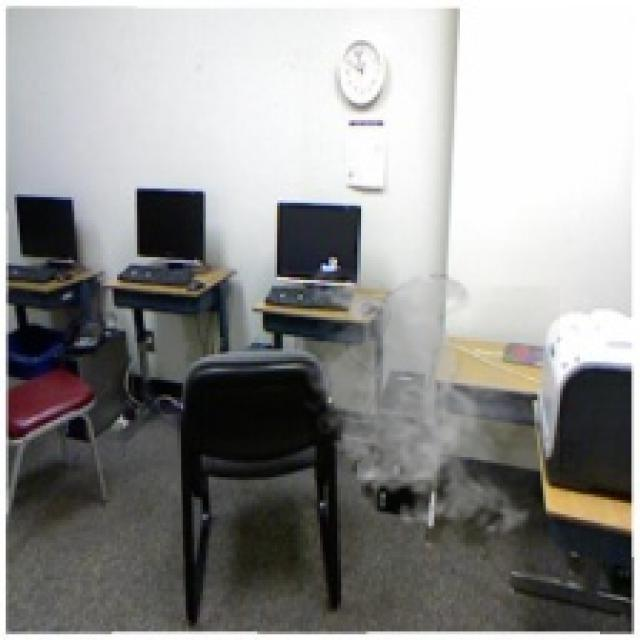Smoke: (297, 268, 560, 543)
